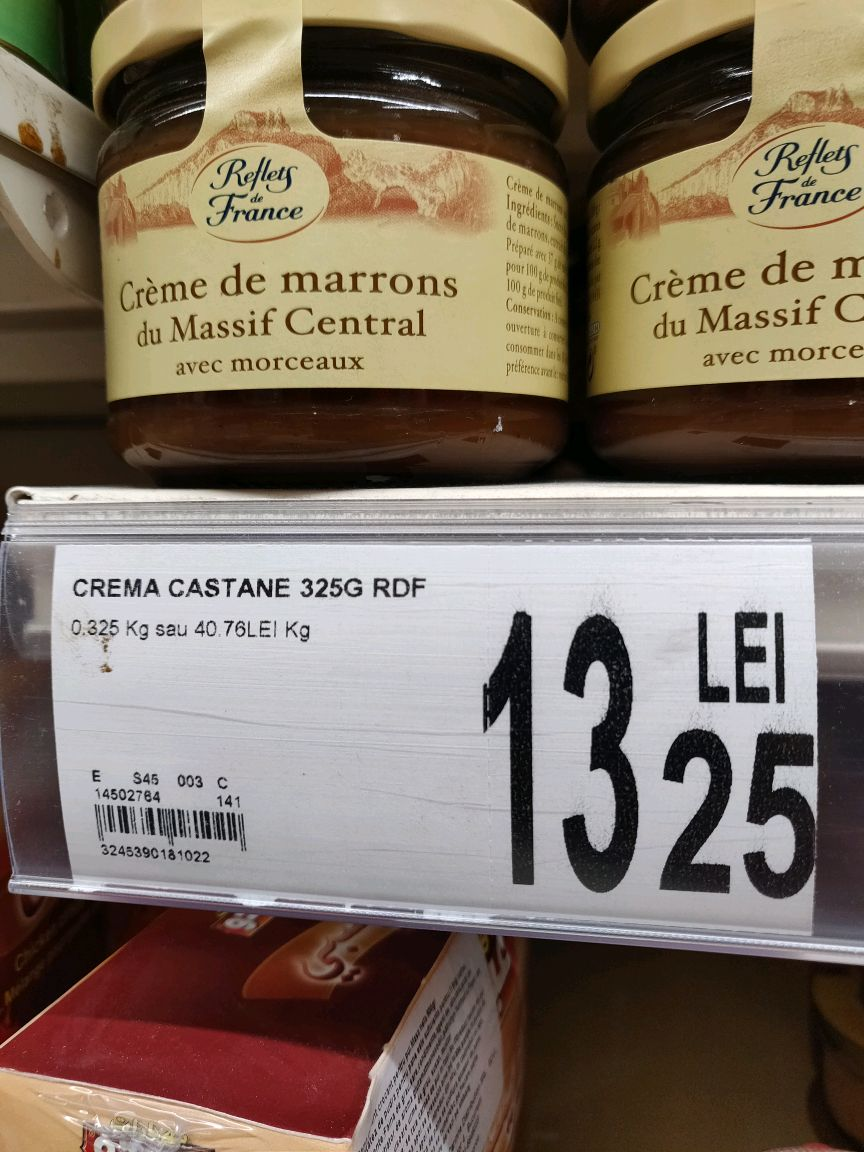price_bani: (653, 716, 819, 920)
price_lei: (464, 605, 656, 903)
price_tag: (37, 536, 825, 944)
product_id: (92, 844, 225, 865)
product_name: (52, 564, 448, 608)
